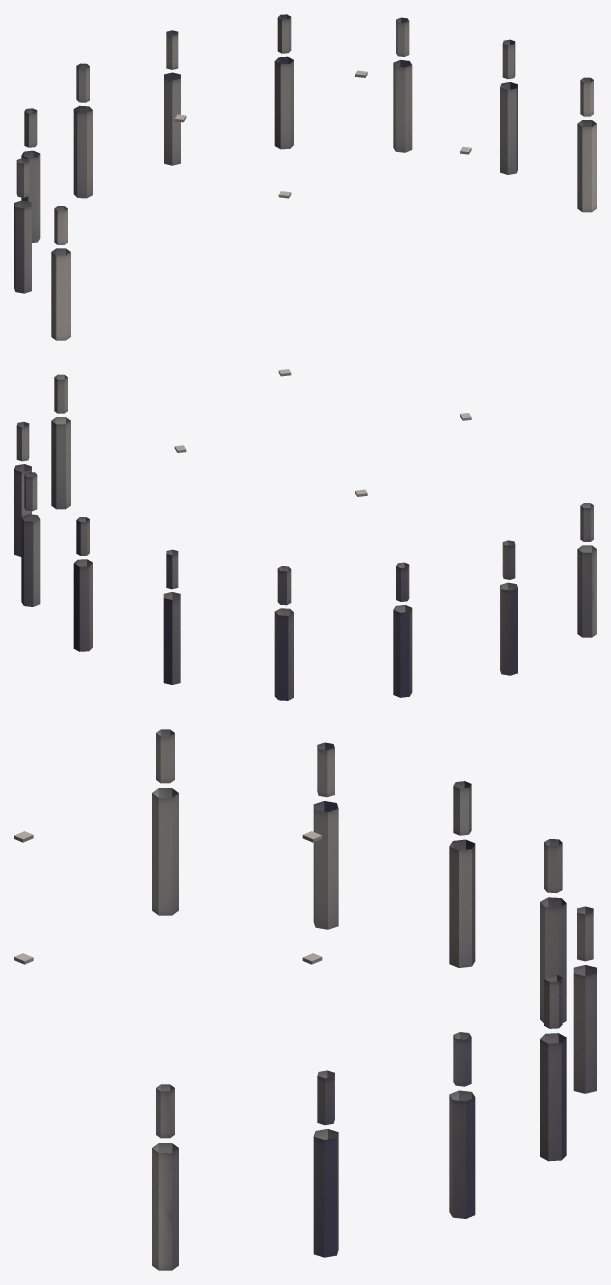
The model's file is Wall_01.FBX.
3 renders of one model, top to bottom at view 1: azimuth 30°, elevation 25°; view 2: azimuth 150°, elevation 25°; view 3: azimuth 270°, elevation 25°, orthographic. The views are drawn at different scales.
Visible parts, largest first — view 1: Wall_01; view 2: Wall_01; view 3: Wall_01.
Boxes of the visible parts, <box> form: Wall_01: <box>14,14,596,340</box>; Wall_01: <box>14,369,596,700</box>; Wall_01: <box>14,729,596,1270</box>.
Size of the model in its own units: 45.63 by 11.19 by 30.81.
